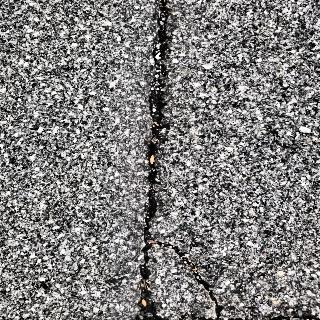crack: (129, 0, 222, 320), (235, 308, 318, 320)
